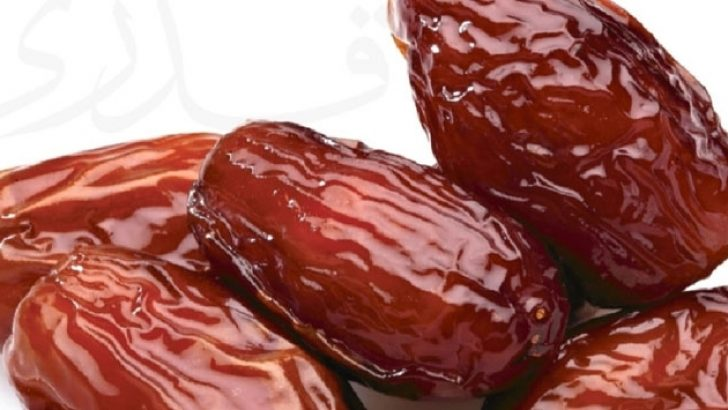hurmaa: (186, 106, 579, 410)
